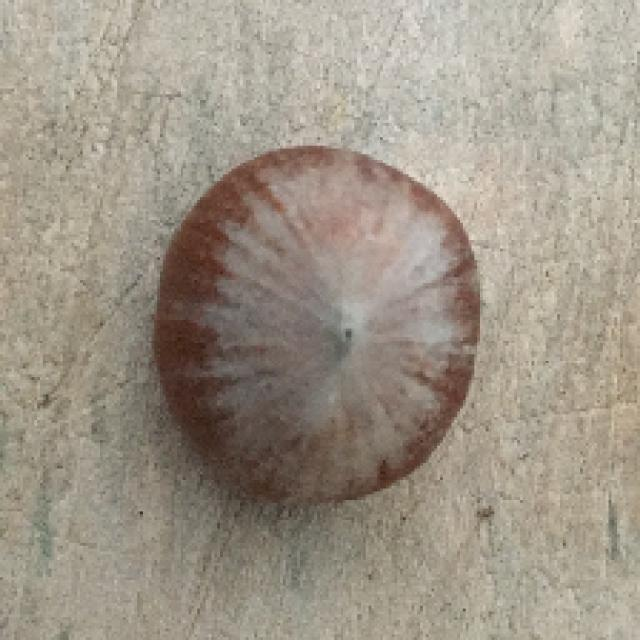qualityHazelnut: (159, 146, 478, 509)
